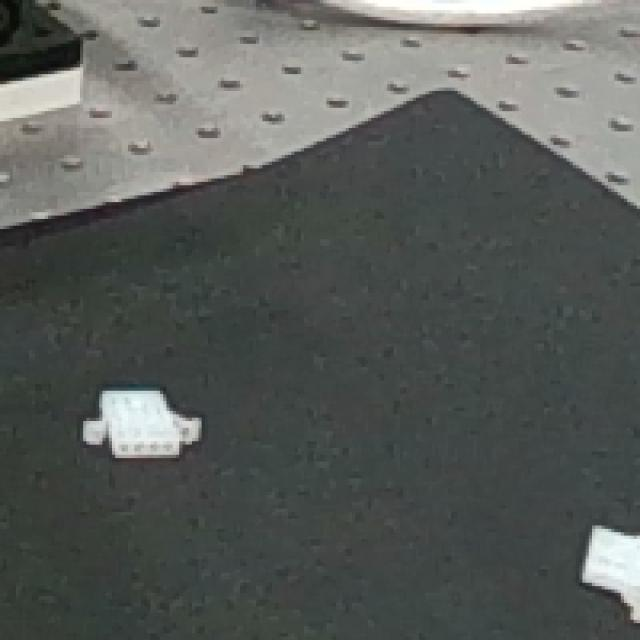pick: (62, 362, 217, 481), (569, 501, 640, 633)
